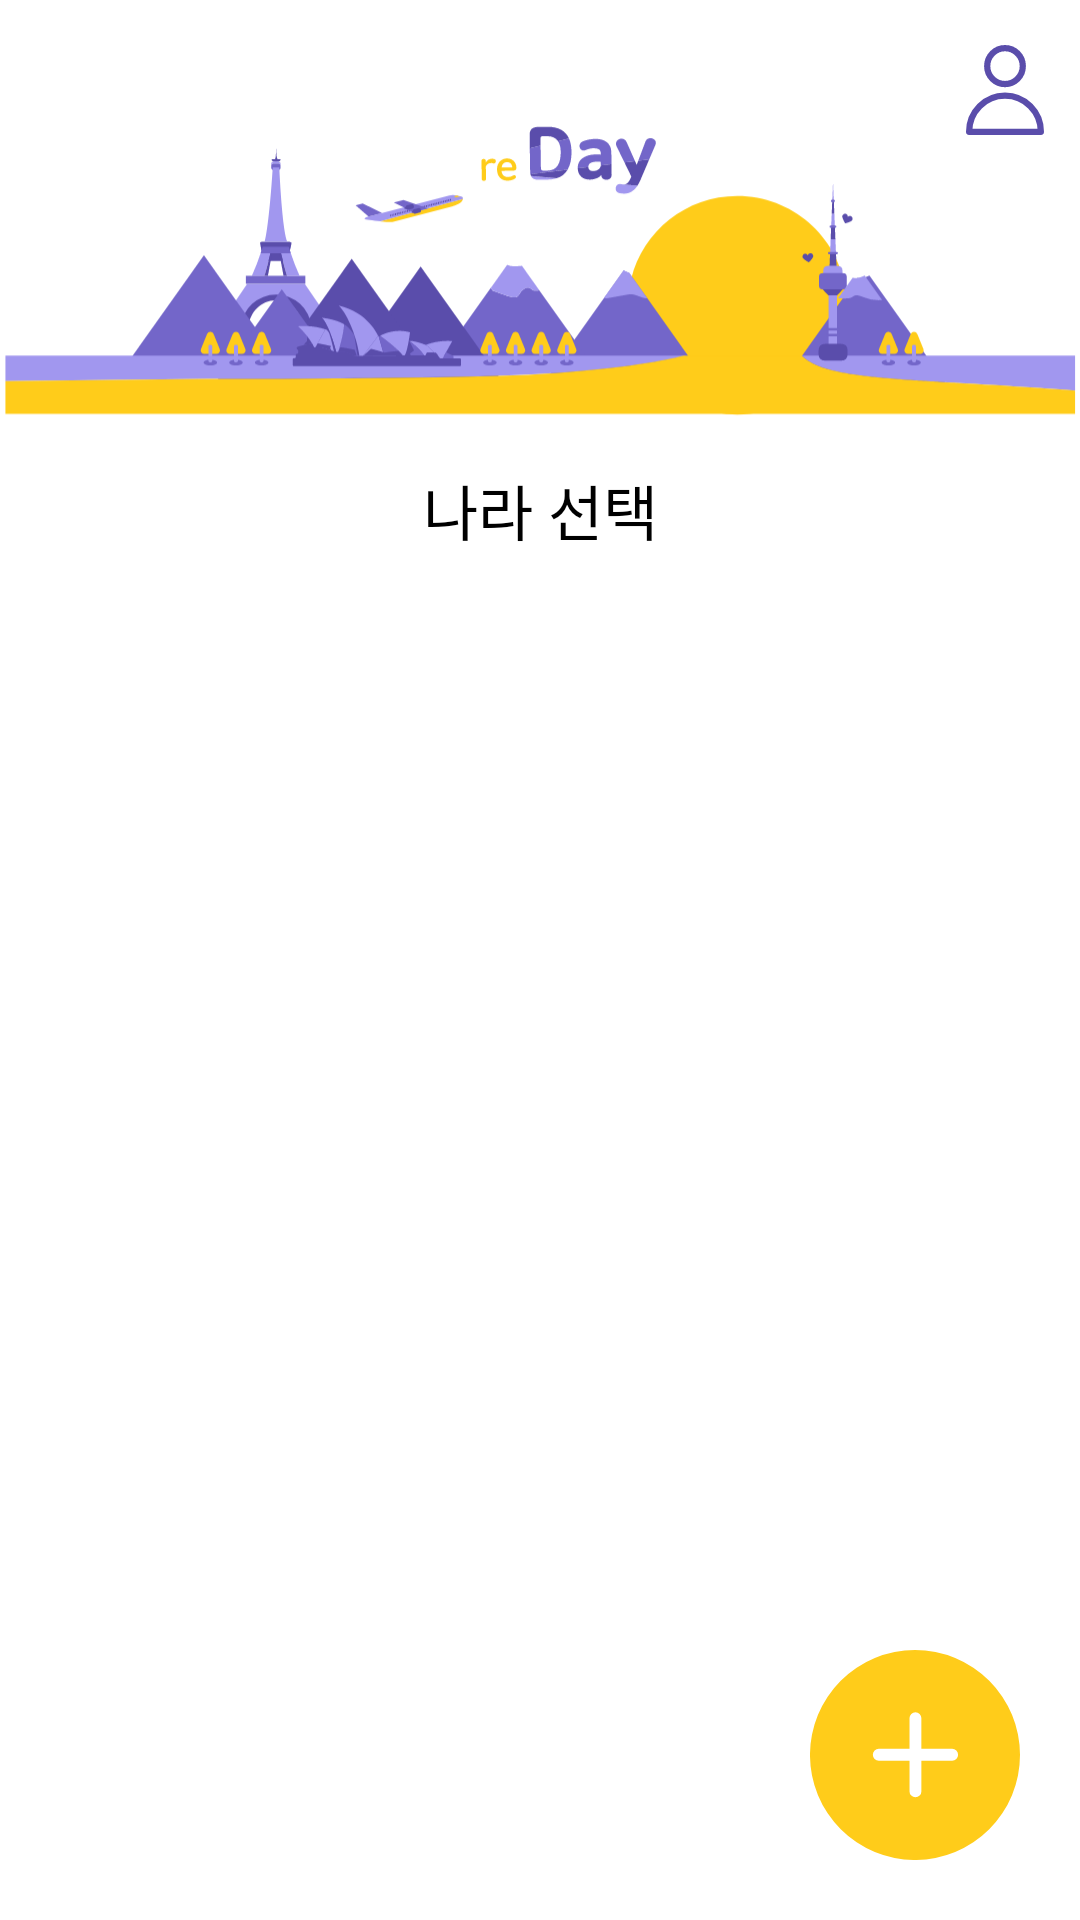

Point at icon controls on the screen. Image size 1080px x 1920px, points as (x,y).
post posting: (915,1755)
